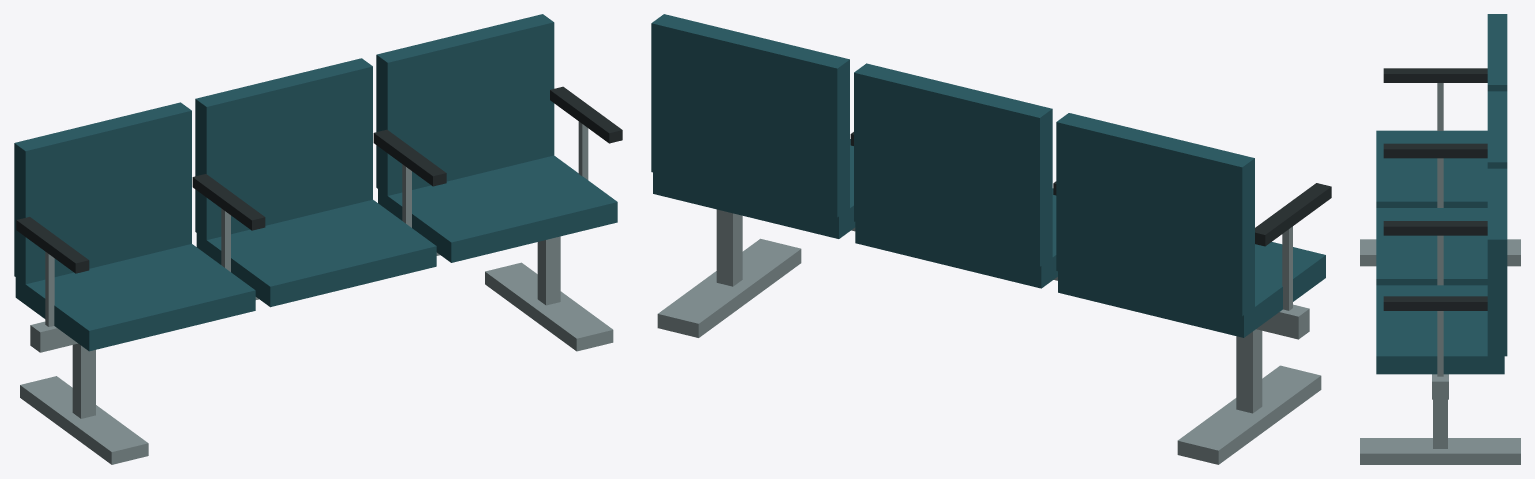
File: bench.glb
3 renders of one model, left to right at view 1: azimuth 30°, elevation 25°; view 2: azimuth 150°, elevation 25°; view 3: azimuth 270°, elevation 25°, orthographic. The views are drawn at different scales.
Visible parts, largest first — view 1: trim.001, metal, trim; view 2: trim.001, metal, trim; view 3: trim.001, metal, trim.
Part boxes in pixels (left/top/right/bottom): trim.001: left=14, top=14, right=617, bottom=351; metal: left=20, top=121, right=613, bottom=464; trim: left=16, top=86, right=622, bottom=273; trim.001: left=651, top=14, right=1325, bottom=337; metal: left=657, top=209, right=1321, bottom=464; trim: left=850, top=132, right=1331, bottom=246; trim.001: left=1376, top=14, right=1507, bottom=374; metal: left=1360, top=83, right=1520, bottom=464; trim: left=1383, top=68, right=1487, bottom=310.
Bounding box in the file's own units: 2.3 × 1.03 × 0.65.
